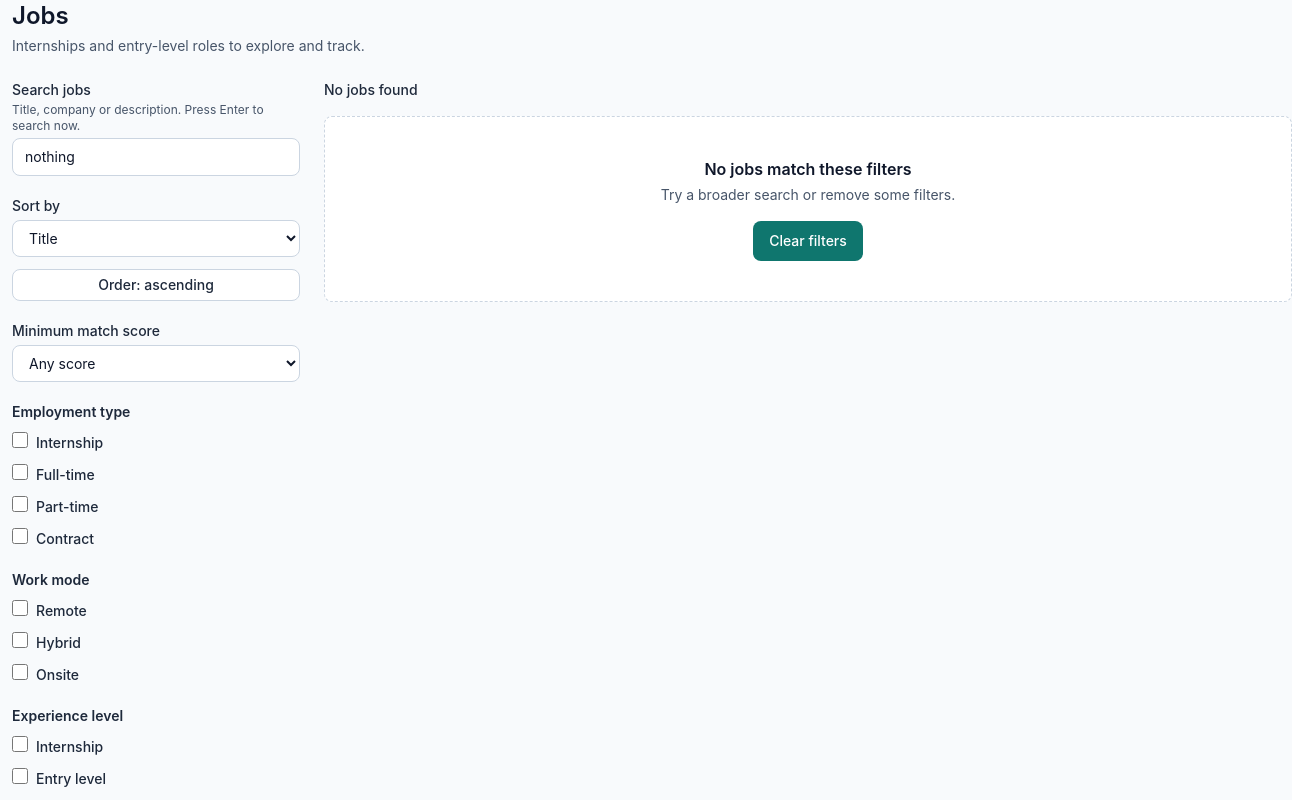
JobsPage › offers Clear filters when filters match nothing
The width and height of the screenshot is (1292, 800).
Expected: the heading "No jobs match these filters" is shown, [704, 157, 912, 181]
Expected: the text "No jobs found" is shown, [324, 81, 418, 98]
Click the button "Clear filters".
click(808, 241)  # box [753, 221, 863, 261]
(page scrolled)
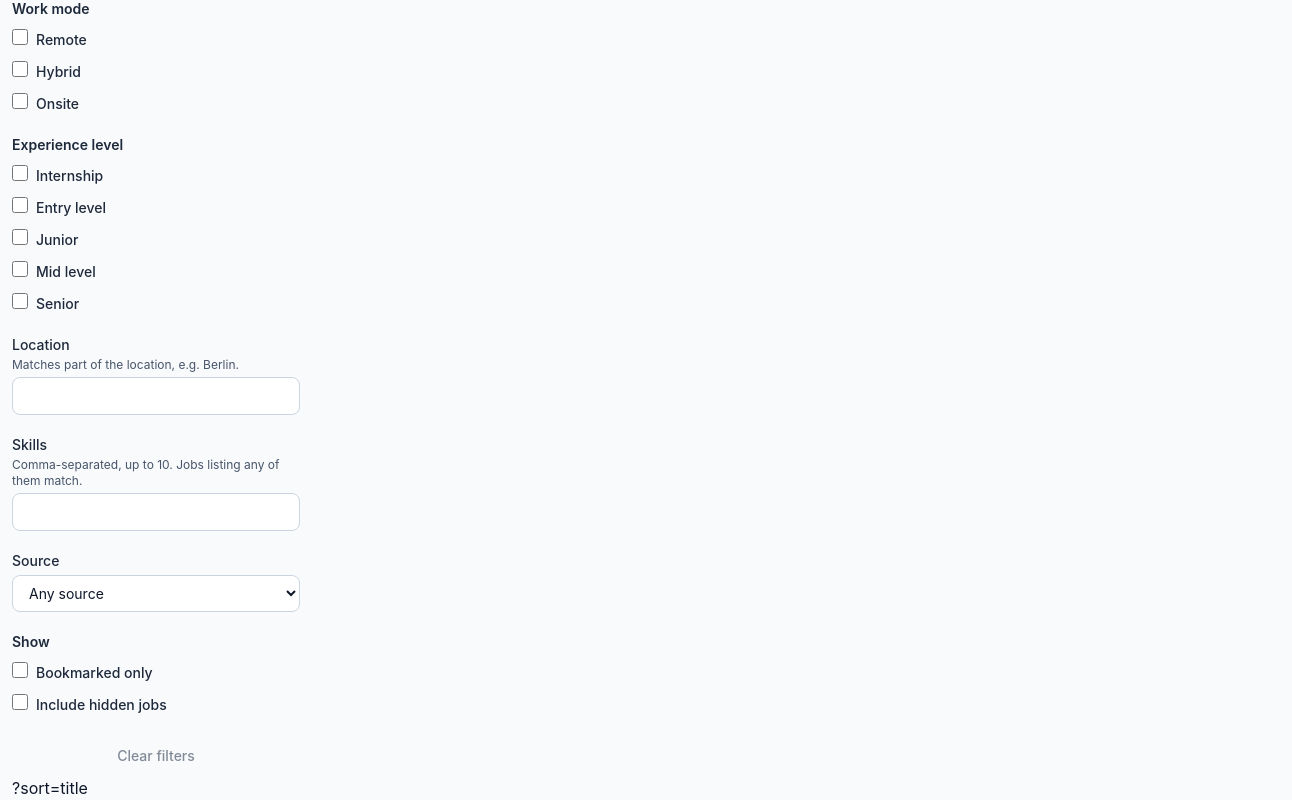
Expected: the text named "Current search" reads "?sort=title", [12, 778, 88, 798]
